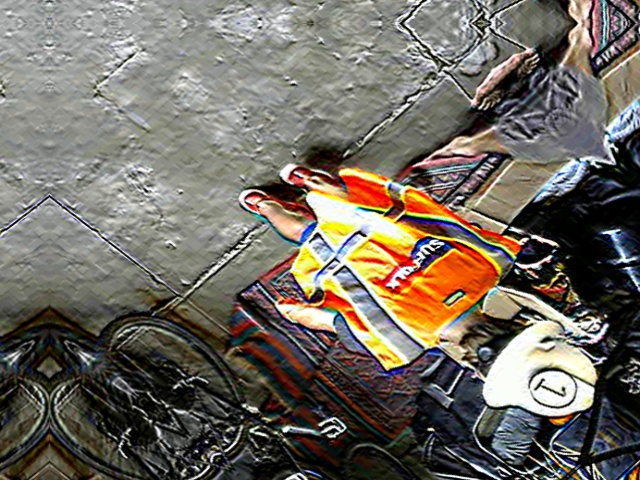one: (522, 362, 587, 416)
